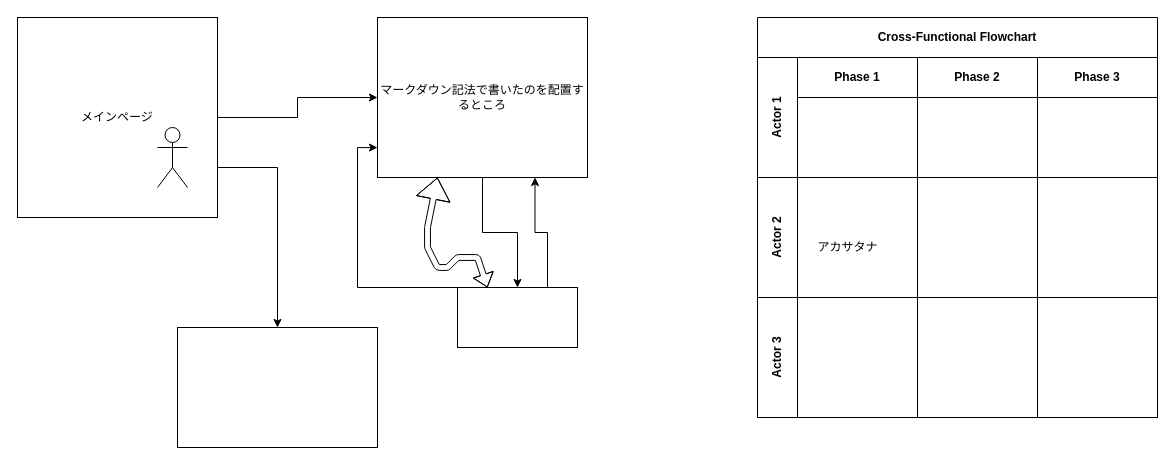
The diagram is 1175 pixels wide and 465 high, and some of its shapes have lost their labels. The shapes that lost their labels are listed below. From the top down, each one's centre as x and y in pixels, then its label:
At (x=172, y=157): "Actor".
At (x=517, y=317): "各自投稿する人が作ったものを表示するもの.md1".
At (x=277, y=387): "カウントダウンのタイマーのところ".
